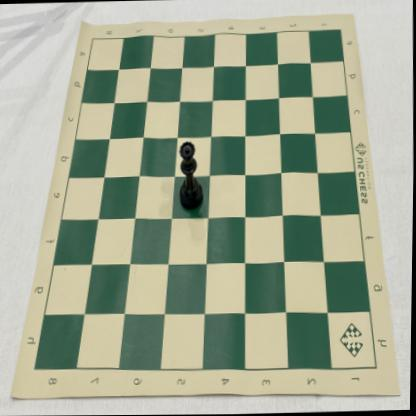black-queen: (178, 140, 205, 211)
